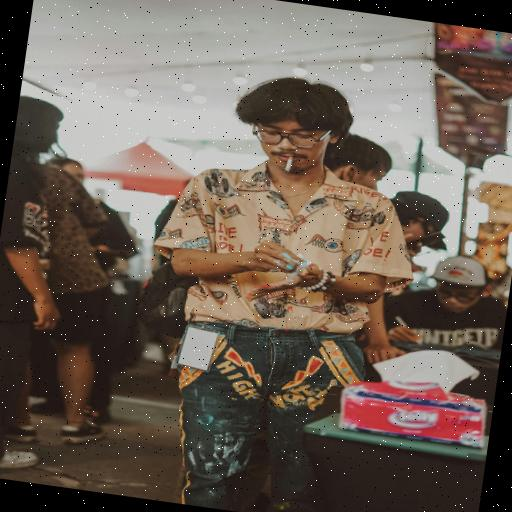dataset-deteksi-merokok: (236, 102, 333, 192)
